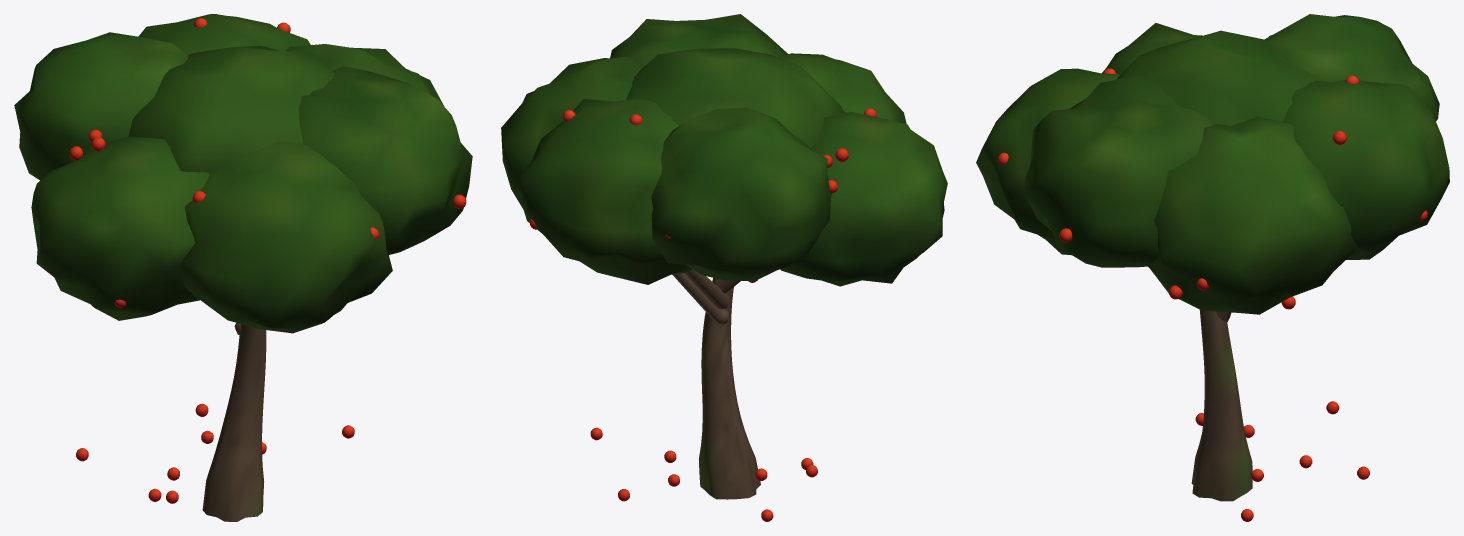
File: AppleTree.glb
The picture shows the model from 3 angles, left to right: view 1: azimuth 30°, elevation 25°; view 2: azimuth 150°, elevation 25°; view 3: azimuth 270°, elevation 25°; orthographic projection. The views are drawn at different scales.
Visible parts, largest first — view 1: Leaves, Trunk, Fruit; view 2: Leaves, Trunk, Fruit; view 3: Leaves, Trunk, Fruit.
Part boxes in pixels (bbox=[...]): Leaves: bbox=[14, 14, 472, 333]; Trunk: bbox=[202, 323, 266, 521]; Fruit: bbox=[69, 18, 466, 503]; Leaves: bbox=[501, 14, 947, 286]; Trunk: bbox=[672, 269, 760, 499]; Fruit: bbox=[529, 108, 876, 521]; Leaves: bbox=[976, 14, 1449, 314]; Trunk: bbox=[1191, 310, 1252, 501]; Fruit: bbox=[997, 68, 1427, 521].
Bounding box in the file's own units: 3.76 × 3.72 × 3.61.
